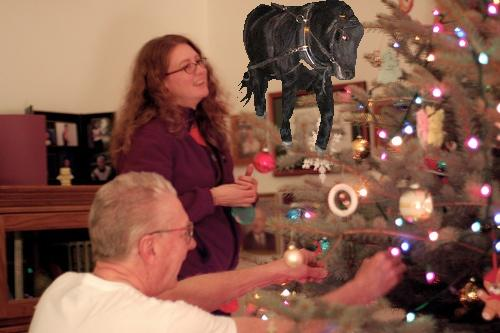tampered: (238, 1, 364, 157)
